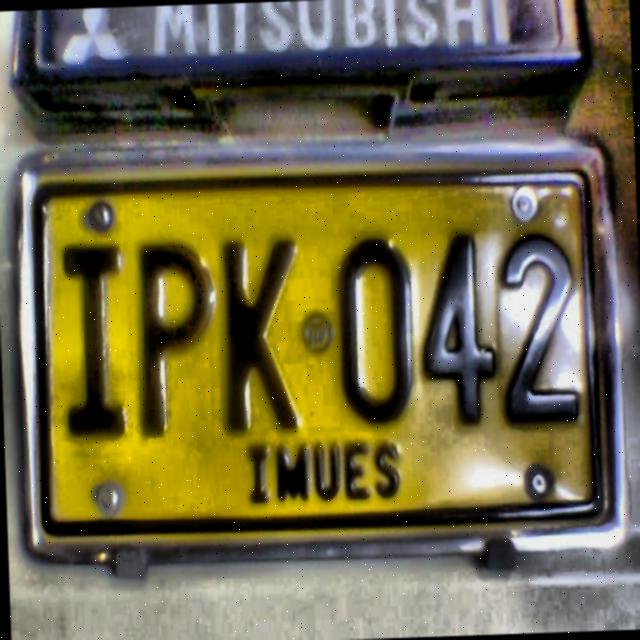0: (325, 216, 423, 438)
2: (495, 213, 589, 442)
4: (414, 212, 504, 444)
I: (58, 228, 132, 454)
K: (213, 226, 308, 438)
P: (130, 228, 224, 458)
